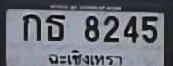2: (103, 15, 118, 41)
4: (123, 15, 137, 42)
5: (141, 15, 157, 42)
8: (84, 15, 98, 41)
A01: (22, 13, 40, 40)
A24: (45, 14, 64, 40)
CCO: (47, 50, 125, 66)
